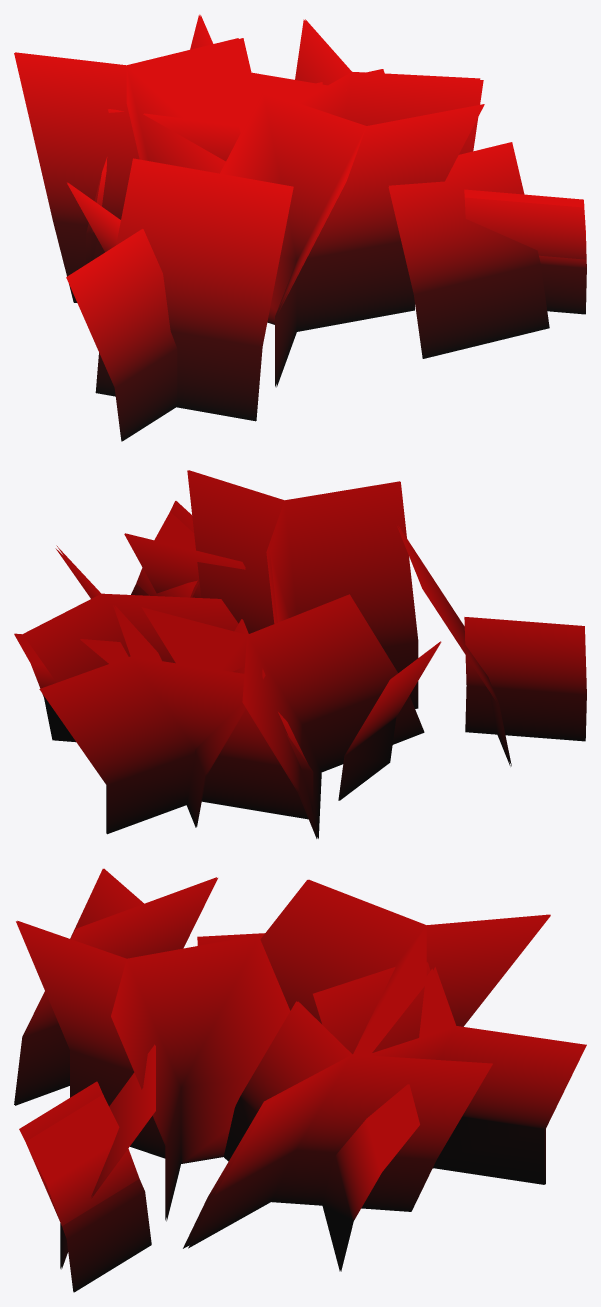
The model's file is SM_GrassField_01_b.FBX.
The picture shows the model from 3 angles, top to bottom: view 1: azimuth 30°, elevation 25°; view 2: azimuth 150°, elevation 25°; view 3: azimuth 270°, elevation 25°; orthographic projection. The views are drawn at different scales.
Visible parts, largest first — view 1: SM_GrassField_01_b_LOD0; view 2: SM_GrassField_01_b_LOD0; view 3: SM_GrassField_01_b_LOD0.
Part boxes in pixels (box(x1,y1,x2,y2)): SM_GrassField_01_b_LOD0: box(14, 14, 586, 441); SM_GrassField_01_b_LOD0: box(14, 470, 586, 838); SM_GrassField_01_b_LOD0: box(14, 868, 586, 1292).
Bounding box in the file's own units: 150 × 137 × 65.19.
